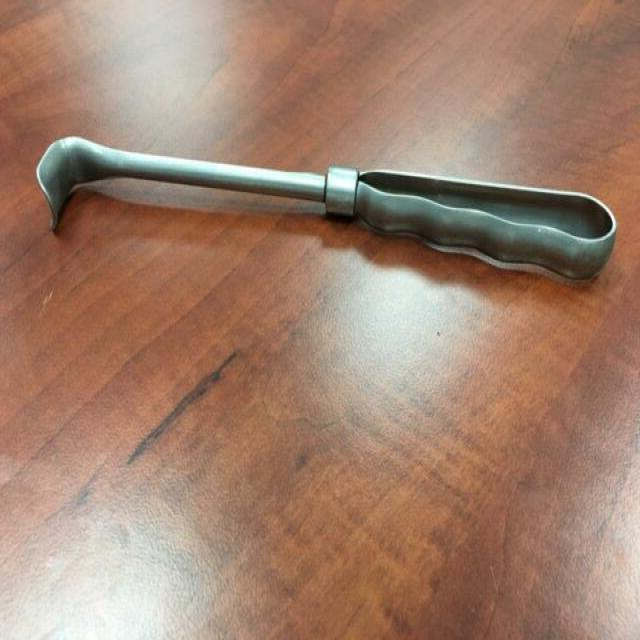Richardson: (32, 129, 621, 287)
